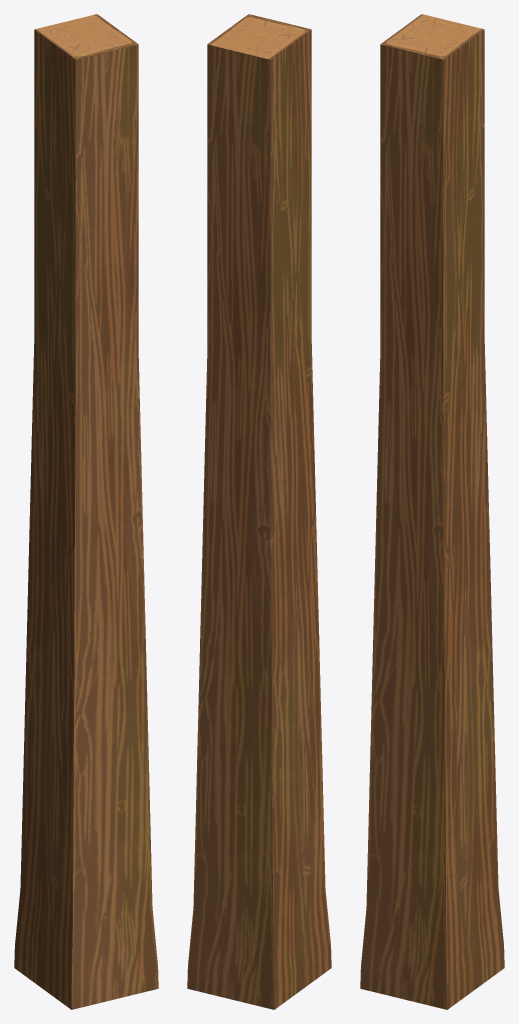
File: Corner_ExteriorWide_Wood.gltf
3 renders of one model, left to right at view 1: azimuth 30°, elevation 25°; view 2: azimuth 150°, elevation 25°; view 3: azimuth 330°, elevation 25°, orthographic.
Parts seen in each view (by area): view 1: Corner_ExteriorWide_Wood; view 2: Corner_ExteriorWide_Wood; view 3: Corner_ExteriorWide_Wood.
Part boxes in pixels (x1,y1,x2,y2): Corner_ExteriorWide_Wood: [14, 14, 158, 1009]; Corner_ExteriorWide_Wood: [187, 14, 331, 1009]; Corner_ExteriorWide_Wood: [360, 14, 504, 1009].
Bounding box in the file's own units: 0.2905 × 3 × 0.3312.
Materials: 1 (1 with a texture image).
